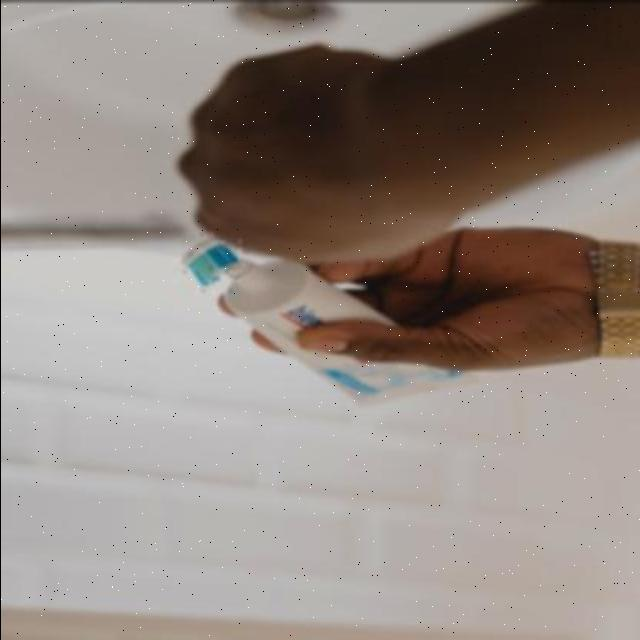toothbrush: (168, 232, 248, 292)
